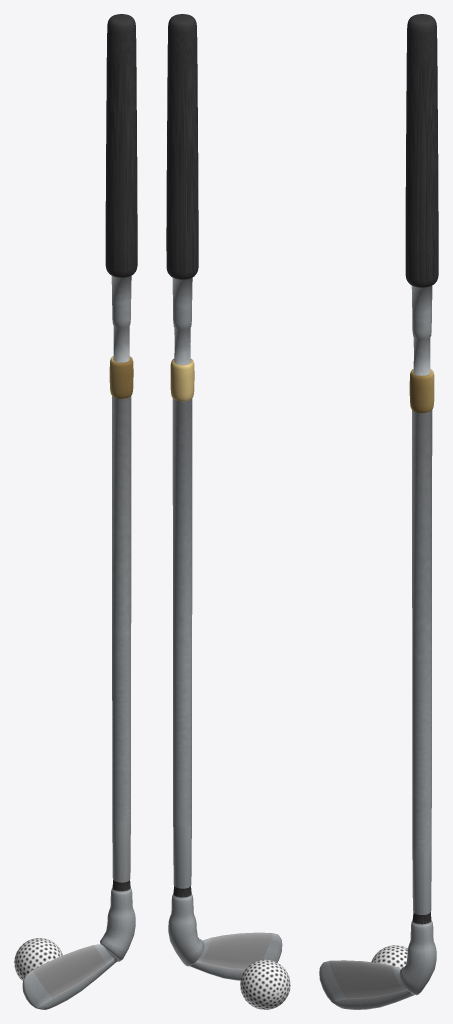
Rendered from Golf Club and Ball.fbx.
3 views of the same model, side by side, from view 1: azimuth 30°, elevation 25°; view 2: azimuth 210°, elevation 25°; view 3: azimuth 330°, elevation 25° (orthographic). The views are drawn at different scales.
Parts seen in each view (by area): view 1: Club, ball; view 2: Club, ball; view 3: Club, ball.
Part boxes in pixels (x1,y1,x2,y2): Club: (22, 14, 137, 1009); ball: (14, 938, 62, 980); Club: (166, 14, 282, 980); ball: (240, 959, 290, 1009); Club: (319, 14, 438, 1009); ball: (371, 945, 407, 968).
Bounding box in the file's own units: 36.45 × 302 × 27.39.
5 materials, 4 textured.
